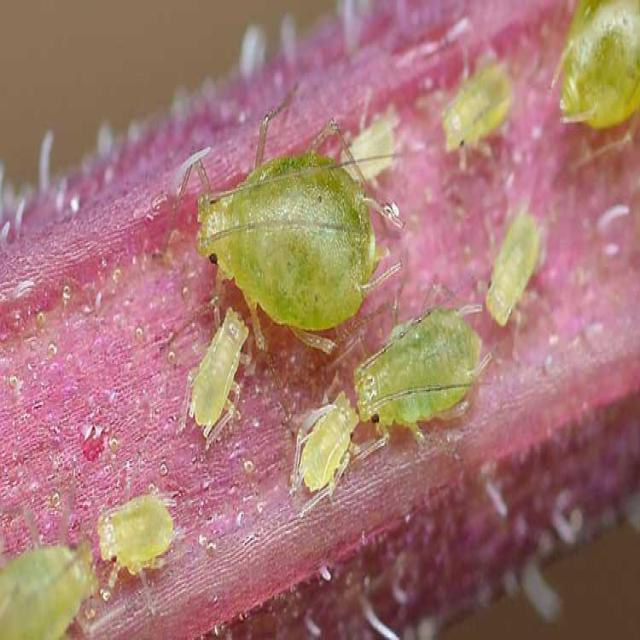aphid: (174, 99, 400, 348), (328, 320, 519, 426), (81, 458, 203, 610), (181, 292, 252, 483), (472, 195, 559, 338), (296, 391, 369, 508), (438, 65, 520, 162)
